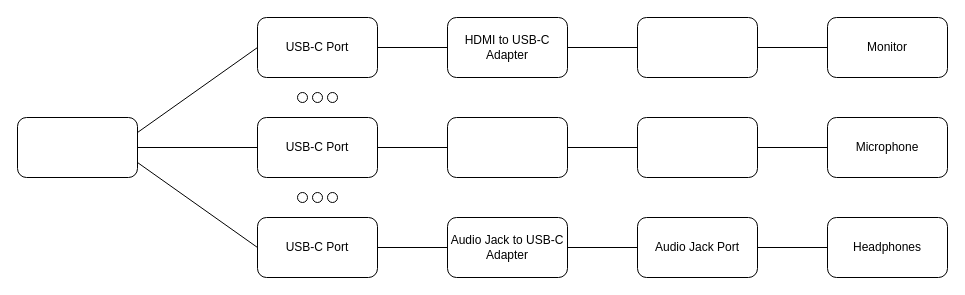
Some shapes in this 965 by 295 pixel diagram are drawn without their labels. The centre of each missing label's shape, as x and y in pixels:
HDMI Cable: point 697,47
Macbook Pro: point 77,147
USB-A Cable: point 697,147
USB-A to USB-C Adapter: point 507,147
